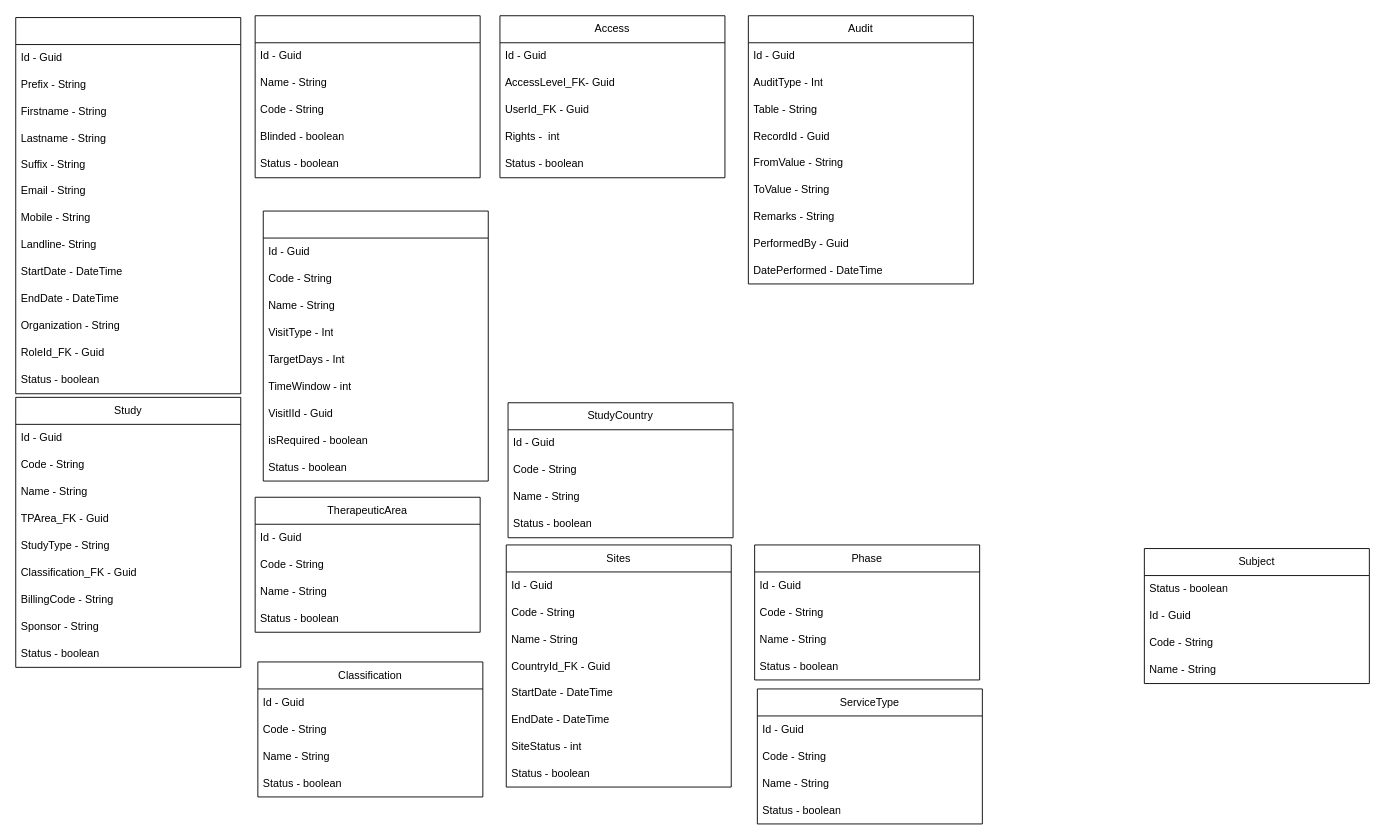
Some shapes in this 1385 by 840 pixel diagram are drawn without their labels. The shapes that lost their labels are listed below. From the top down, each one's box as (x1, y1, x2, y2) in pixels, then its label:
(254, 15, 480, 178): Roles
(15, 17, 241, 394): User
(262, 210, 488, 481): Visits
